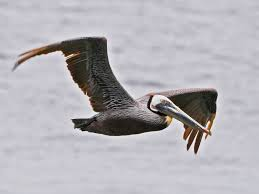pelican: (14, 38, 217, 155)
